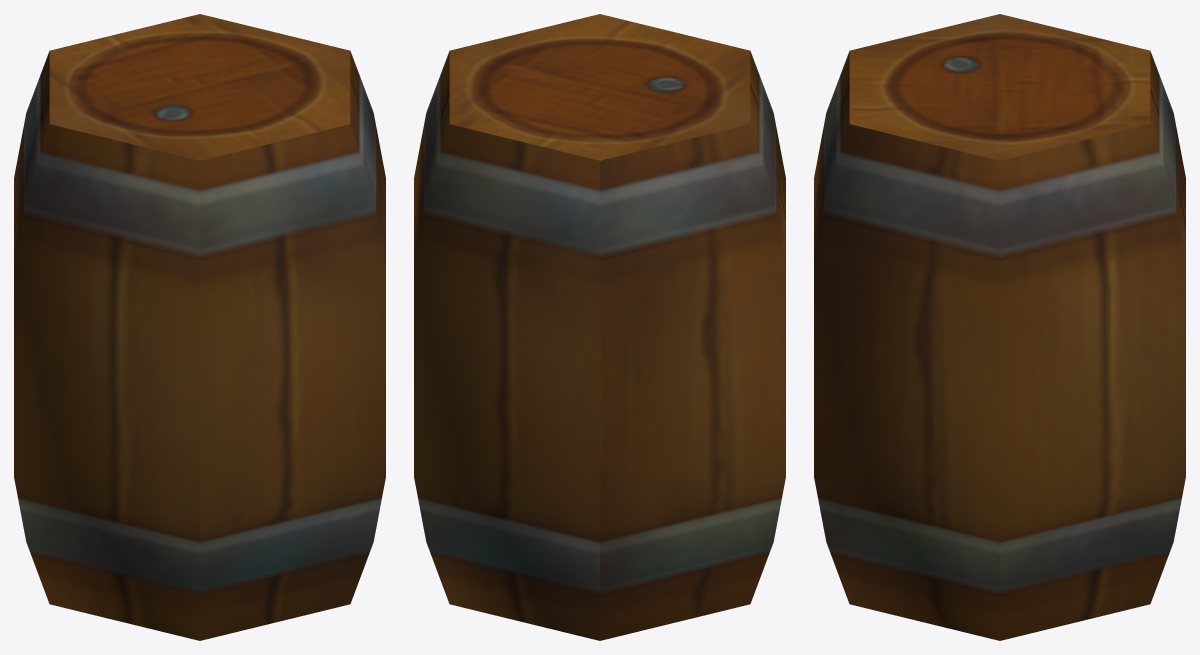
File: Drum_01.FBX
3 renders of one model, left to right at view 1: azimuth 30°, elevation 25°; view 2: azimuth 150°, elevation 25°; view 3: azimuth 270°, elevation 25°, orthographic.
Visible parts, largest first — view 1: Drum; view 2: Drum; view 3: Drum.
Part boxes in pixels (left/top/right/bottom): Drum: left=14, top=14, right=385, bottom=640; Drum: left=414, top=14, right=785, bottom=640; Drum: left=814, top=14, right=1185, bottom=640.
Bounding box in the file's own units: 30.19 × 37.25 × 26.15.
